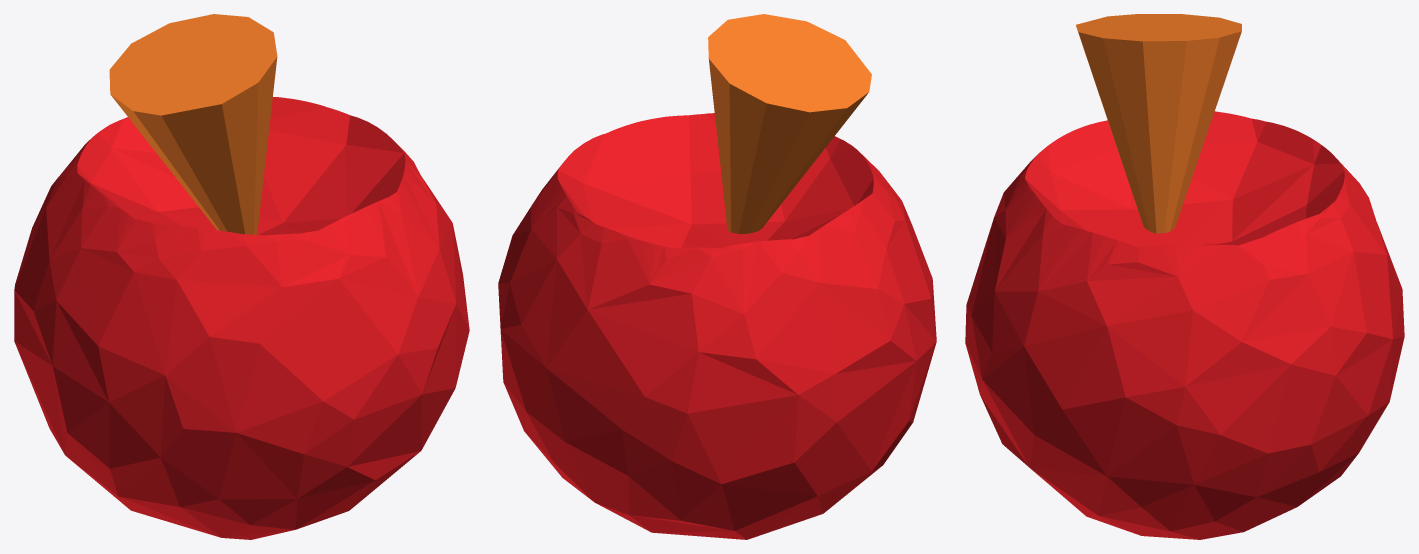
File: cherry2.glb
3 views of the same model, side by side, from view 1: azimuth 30°, elevation 25°; view 2: azimuth 150°, elevation 25°; view 3: azimuth 270°, elevation 25° (orthographic). The views are drawn at different scales.
Visible parts, largest first — view 1: Mesh_1.001, Mesh_0.001; view 2: Mesh_1.001, Mesh_0.001; view 3: Mesh_1.001, Mesh_0.001.
Part boxes in pixels (<box>): Mesh_1.001: <box>14,97,469,539</box>; Mesh_0.001: <box>109,14,277,234</box>; Mesh_1.001: <box>498,113,936,539</box>; Mesh_0.001: <box>708,14,871,233</box>; Mesh_1.001: <box>965,111,1404,539</box>; Mesh_0.001: <box>1076,14,1241,233</box>.
Bounding box in the file's own units: 0.0399 × 0.0476 × 0.0396.
